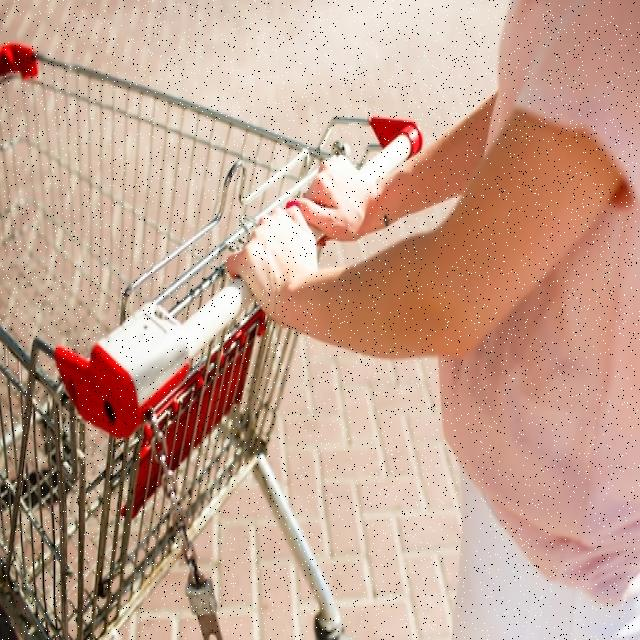Person: (226, 0, 640, 640)
